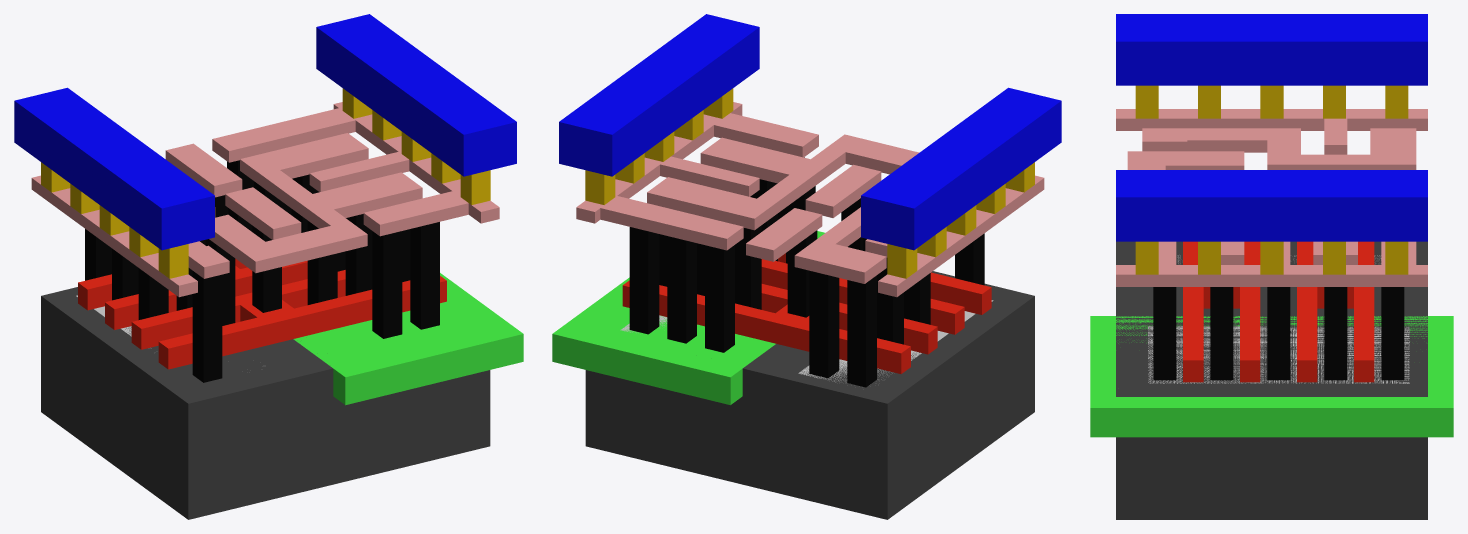
File: sky130_fd_sc_hd__nand2_2.obj
3 renders of one model, left to right at view 1: azimuth 30°, elevation 25°; view 2: azimuth 150°, elevation 25°; view 3: azimuth 270°, elevation 25°, orthographic. The views are drawn at different scales.
Visible parts, largest first — view 1: subs, metal1, li, licon, nwell, poly, mcon; view 2: subs, metal1, li, licon, nwell, poly, mcon, diff; view 3: metal1, subs, li, nwell, licon, poly, mcon, tap.
Part boxes in pixels (x1=…): subs: x1=41, y1=287, x2=490, y2=519; metal1: x1=14, y1=14, x2=516, y2=250; li: x1=31, y1=102, x2=499, y2=297; licon: x1=85, y1=160, x2=439, y2=382; nwell: x1=293, y1=273, x2=523, y2=405; poly: x1=78, y1=258, x2=446, y2=369; mcon: x1=41, y1=88, x2=490, y2=278; subs: x1=585, y1=271, x2=1034, y2=519; metal1: x1=559, y1=14, x2=1061, y2=250; li: x1=576, y1=102, x2=1044, y2=297; licon: x1=629, y1=157, x2=984, y2=387; nwell: x1=552, y1=231, x2=824, y2=405; poly: x1=622, y1=253, x2=991, y2=373; mcon: x1=585, y1=88, x2=1034, y2=278; diff: x1=798, y1=300, x2=993, y2=382; metal1: x1=1116, y1=14, x2=1427, y2=241; subs: x1=1116, y1=241, x2=1427, y2=519; li: x1=1116, y1=109, x2=1427, y2=286; nwell: x1=1090, y1=316, x2=1453, y2=437; licon: x1=1153, y1=287, x2=1404, y2=380; poly: x1=1183, y1=241, x2=1374, y2=382; mcon: x1=1135, y1=85, x2=1408, y2=274; tap: x1=1148, y1=326, x2=1409, y2=383.
Size of the model in its own units: 3.2 by 2.74 by 2.68.
